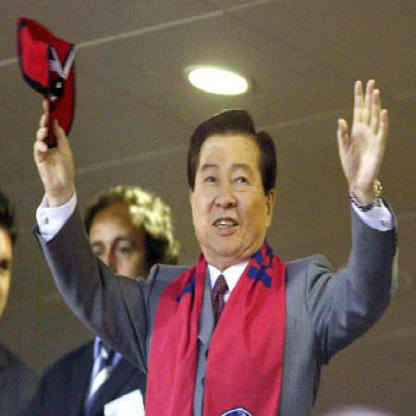face: (190, 120, 270, 260), (85, 190, 154, 320)
